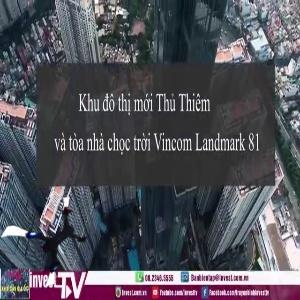drone: (9, 204, 94, 289)
